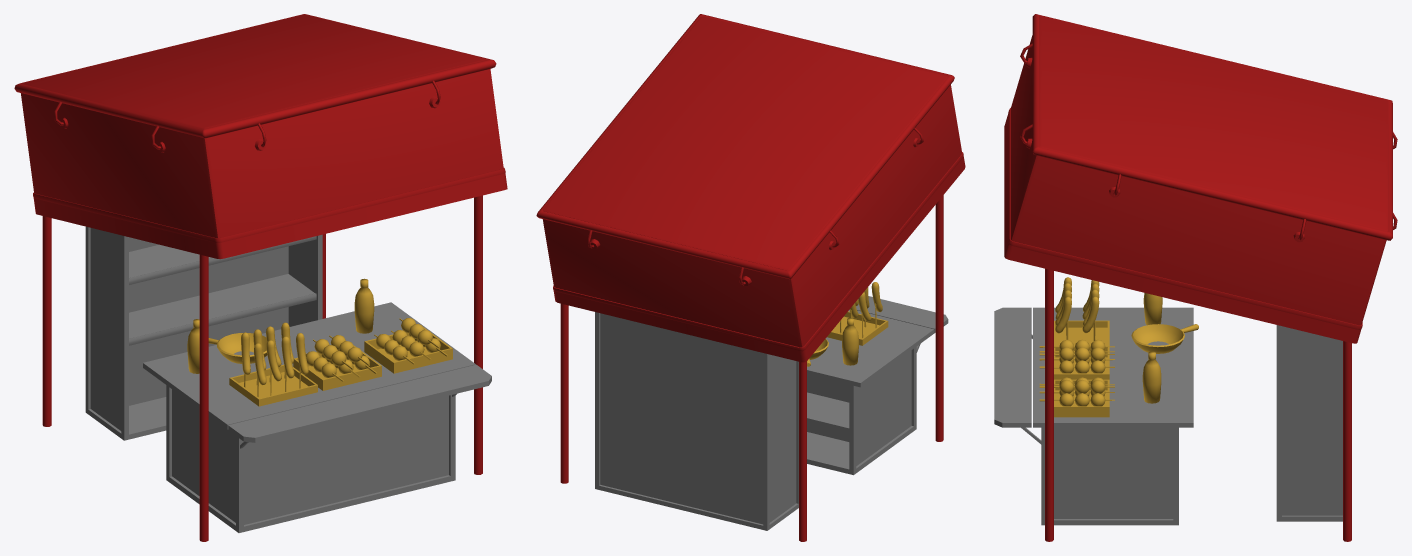
Rendered from SM_yatai_dango.fbx.
The picture shows the model from 3 angles, left to right: view 1: azimuth 30°, elevation 25°; view 2: azimuth 150°, elevation 25°; view 3: azimuth 270°, elevation 25°; orthographic projection. The views are drawn at different scales.
Parts seen in each view (by area): view 1: Box484; view 2: Box484; view 3: Box484.
Part boxes in pixels (<box>): Box484: <box>14,14,507,541</box>; Box484: <box>536,14,965,541</box>; Box484: <box>994,14,1397,541</box>.
Size of the model in its own units: 111 by 143 by 132.
